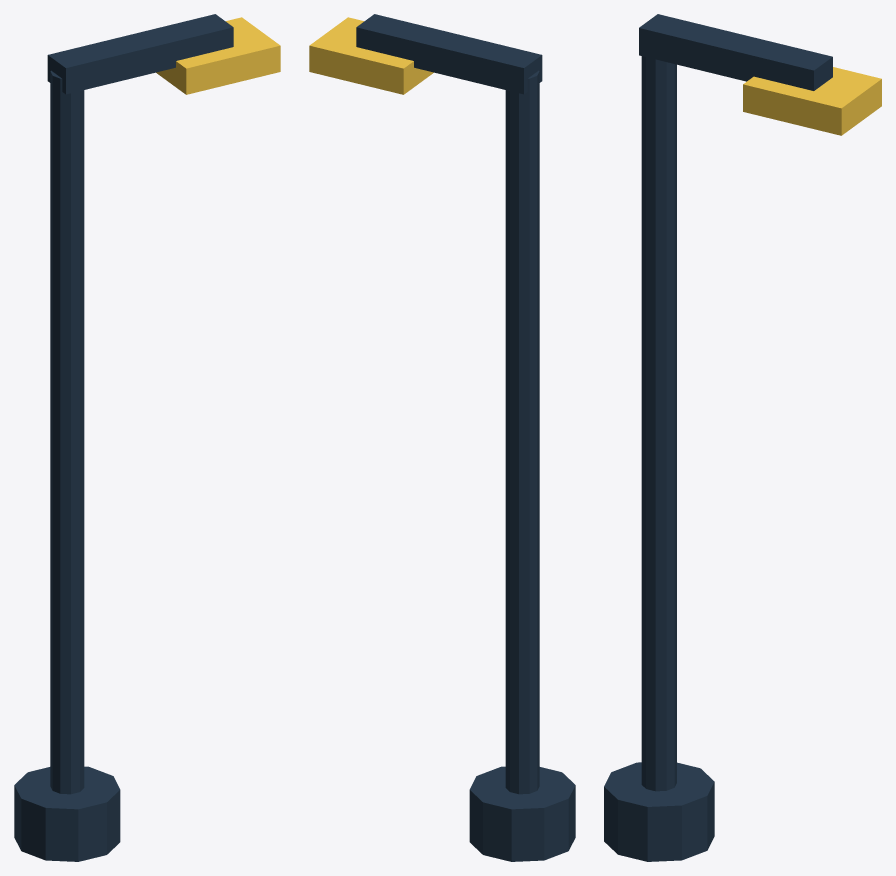
File: 12_street_lamp.obj
The picture shows the model from 3 angles, left to right: view 1: azimuth 30°, elevation 25°; view 2: azimuth 150°, elevation 25°; view 3: azimuth 330°, elevation 25°; orthographic projection. The views are drawn at different scales.
Visible parts, largest first — view 1: part_1, part_0, part_2, part_3; view 2: part_1, part_0, part_2, part_3; view 3: part_1, part_0, part_2, part_3.
Part boxes in pixels (x1,y1,x2,y2): part_1: (50, 70, 84, 794); part_0: (14, 766, 120, 861); part_2: (47, 14, 233, 94); part_3: (156, 17, 280, 94); part_1: (505, 70, 539, 794); part_0: (469, 766, 575, 861); part_2: (356, 14, 542, 94); part_3: (309, 17, 433, 94); part_1: (641, 56, 676, 791); part_0: (604, 762, 714, 861); part_2: (639, 14, 832, 90); part_3: (743, 67, 881, 135).
Size of the model in its own units: 1.14 by 3.56 by 0.4185.
